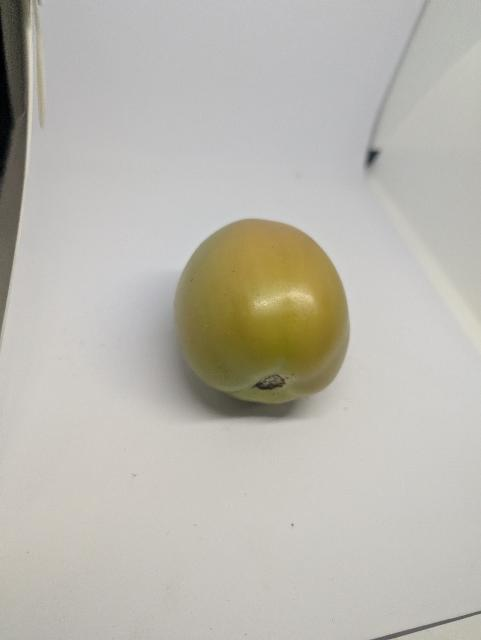breaker: (175, 219, 350, 403)
